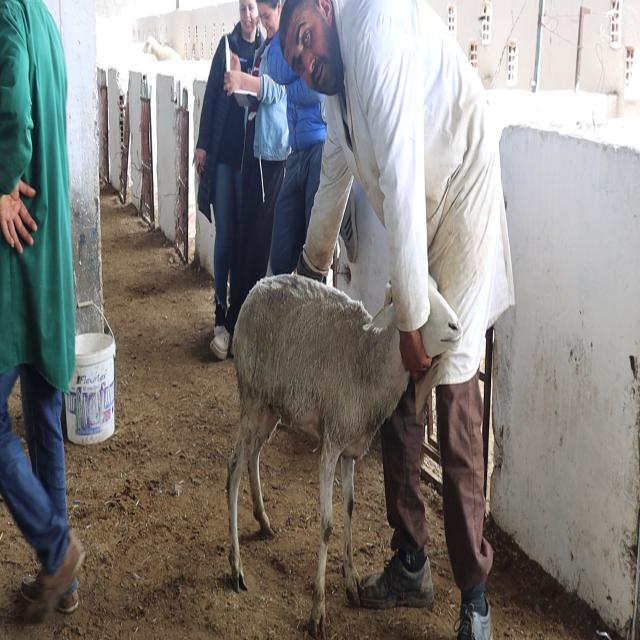Score_1: (227, 274, 409, 637)
